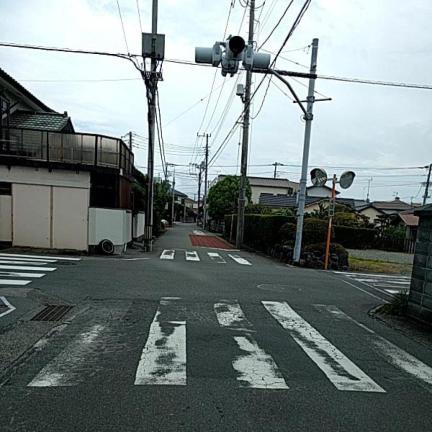Road: (0, 225, 431, 431)
